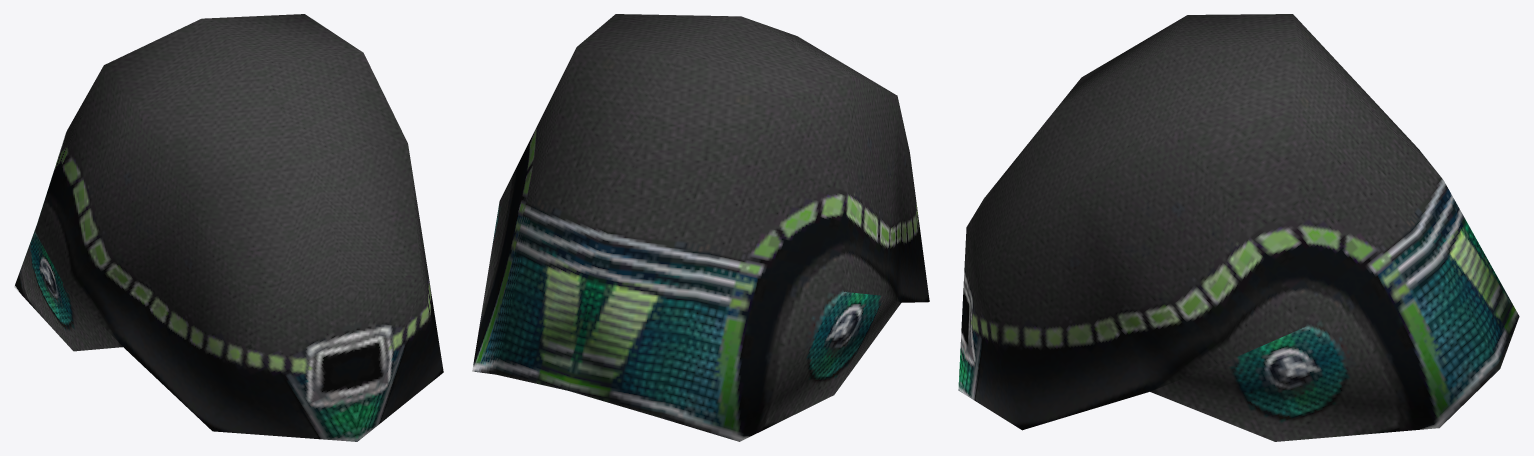
File: Helmet4__VTX.glb
The picture shows the model from 3 angles, left to right: view 1: azimuth 30°, elevation 25°; view 2: azimuth 150°, elevation 25°; view 3: azimuth 270°, elevation 25°; orthographic projection. The views are drawn at different scales.
Visible parts, largest first — view 1: Helmet4; view 2: Helmet4; view 3: Helmet4.
Boxes of the visible parts, <box> form: Helmet4: <box>14,14,443,441</box>; Helmet4: <box>472,14,929,441</box>; Helmet4: <box>958,14,1519,441</box>.
Bounding box in the file's own units: 12.19 × 10.84 × 16.01.
Materials: 1 (1 with a texture image).
